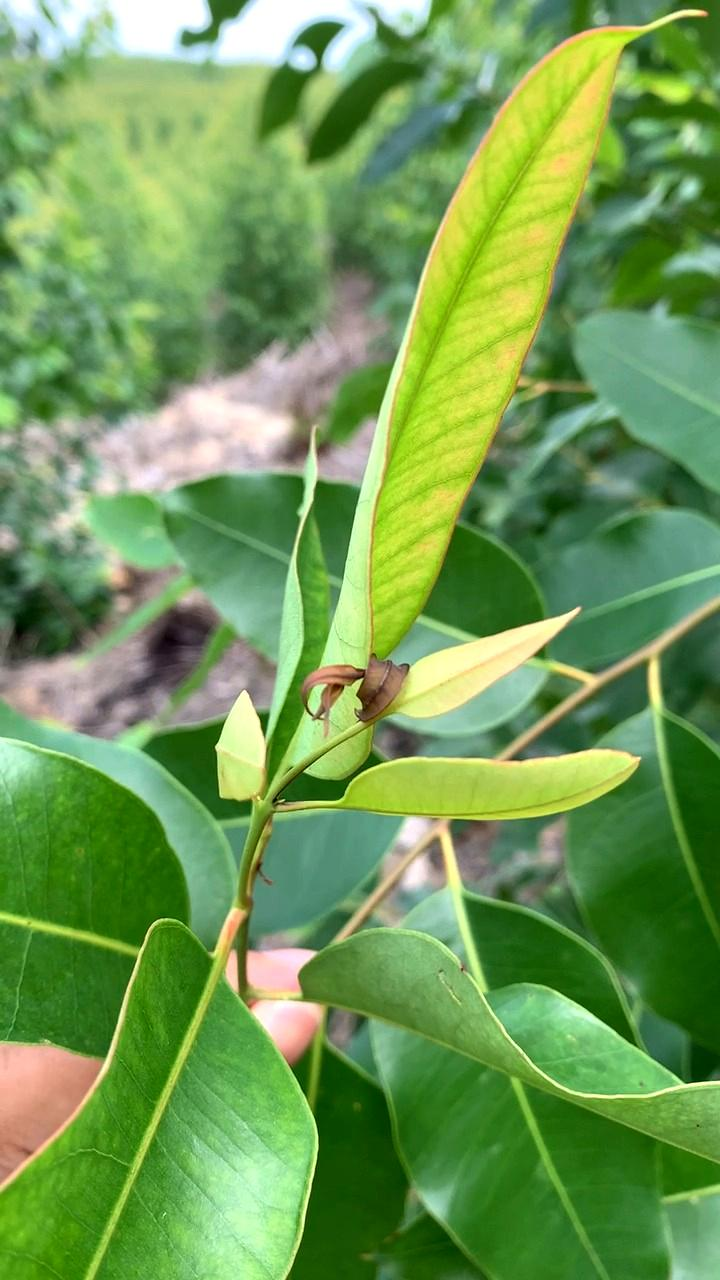Helopeltis-Withered Sprout: (296, 645, 410, 733)
